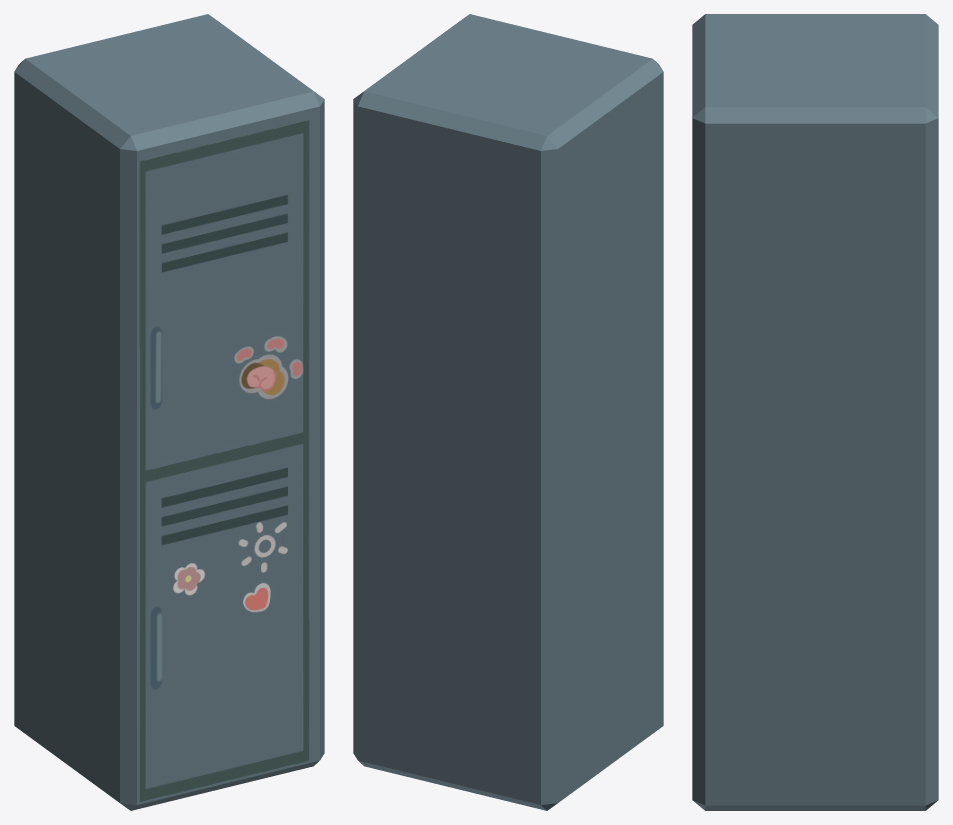
Rendered from locker.fbx.
3 renders of one model, left to right at view 1: azimuth 30°, elevation 25°; view 2: azimuth 150°, elevation 25°; view 3: azimuth 270°, elevation 25°, orthographic. The views are drawn at different scales.
Parts seen in each view (by area): view 1: Cube.070; view 2: Cube.070; view 3: Cube.070.
Boxes of the visible parts, left/top/right/bottom form: Cube.070: left=14, top=14, right=324, bottom=810; Cube.070: left=353, top=14, right=663, bottom=810; Cube.070: left=692, top=14, right=938, bottom=810.
Bounding box in the file's own units: 84.24 × 265 × 84.24.
